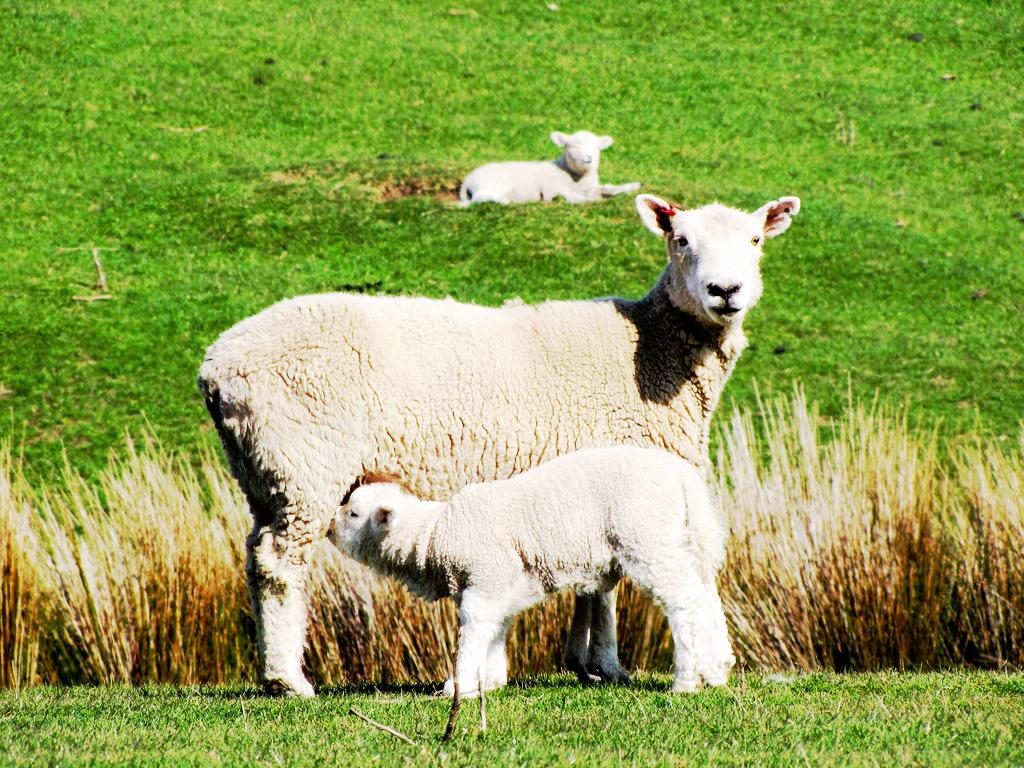Sheep: (179, 175, 815, 715), (324, 447, 738, 697), (453, 132, 644, 204)
